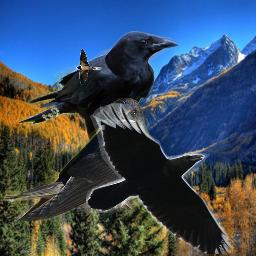Crow: (86, 102, 233, 254), (18, 31, 181, 159)
Swallow: (0, 98, 154, 221), (76, 48, 103, 85)
